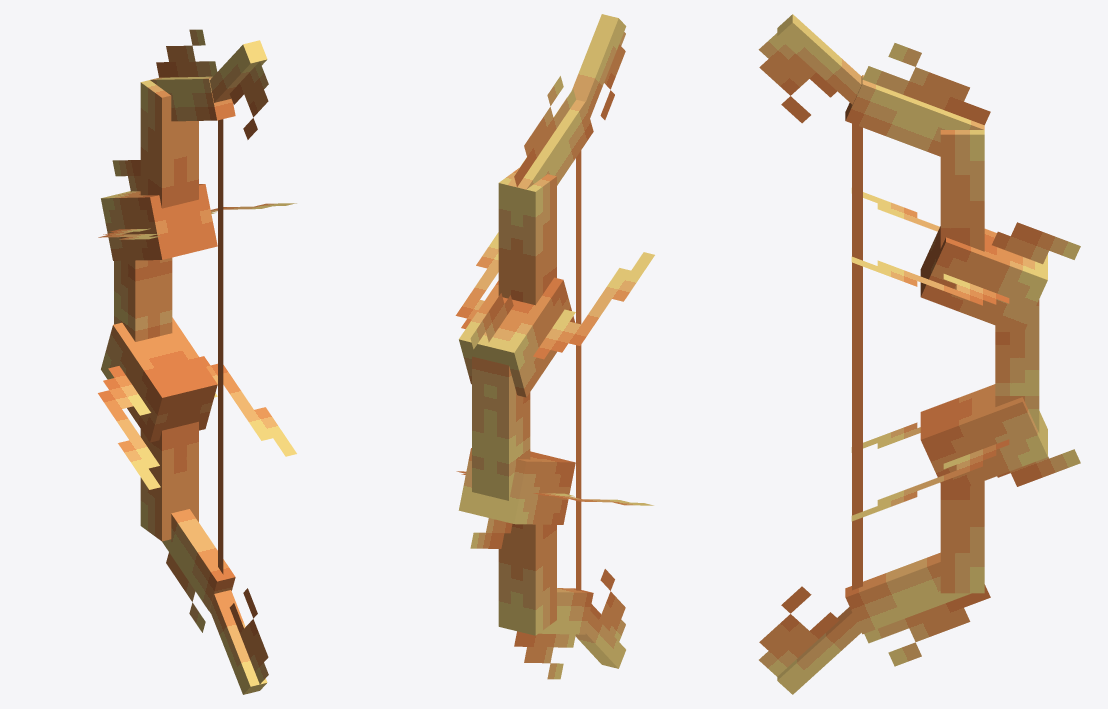
The model's file is archer_bow_spirit_dragon_4.gltf.
3 renders of one model, left to right at view 1: azimuth 30°, elevation 25°; view 2: azimuth 150°, elevation 25°; view 3: azimuth 270°, elevation 25°, orthographic. The views are drawn at different scales.
Parts seen in each view (by area): view 1: cube (×17); view 2: cube (×18); view 3: cube (×20).
Boxes of the visible parts, box(x1,y1,x2,y2) form: cube (×17): box(98, 29, 296, 694); cube (×18): box(455, 14, 654, 679); cube (×20): box(758, 14, 1080, 694).
Size of the model in its own units: 1.22 by 3.15 by 1.54.
Materials: 1 (1 with a texture image).
